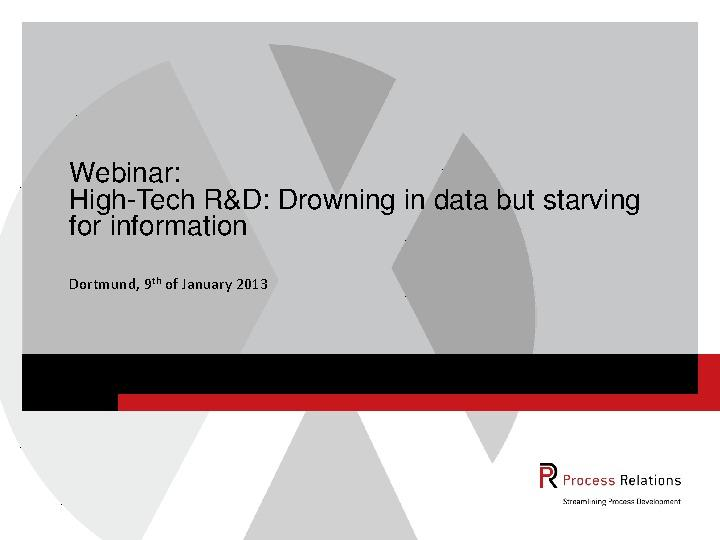title: (56, 146, 655, 249)
